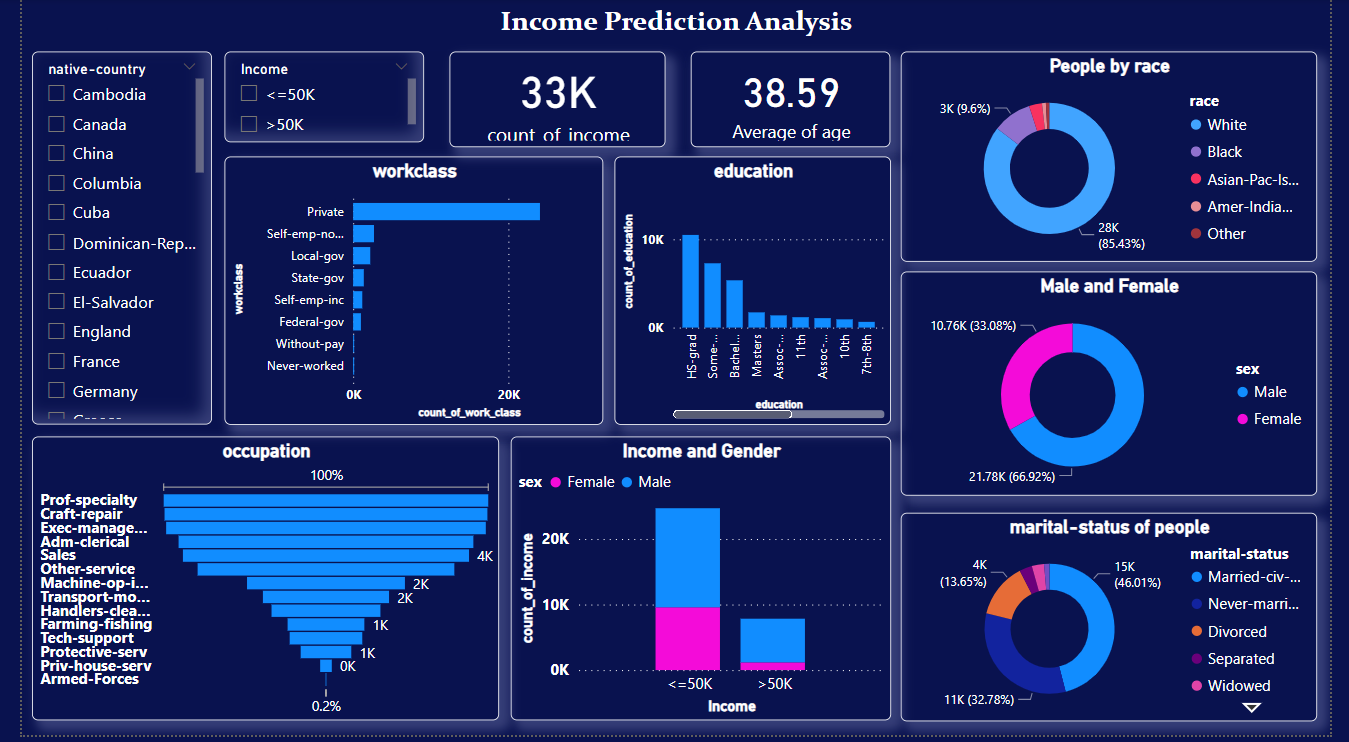

What the dashboard file says about the page in this screenshot:
{"tool":"powerbi","page":{"name":"Page 1","canvas":[1280,720],"ordinal":0},"visuals":[{"type":"textbox","box":[0,0,1279.9,50.1],"z":0},{"type":"donutChart","title":" People by race","fields":{"Category":["final_income_prediction.race"],"Y":["final_income_prediction.count_of_race"]},"box":[859,50.8,407.5,205.8],"z":1000},{"type":"donutChart","title":"Male and Female","fields":{"Y":["CountNonNull(final_income_prediction.sex)"],"Category":["final_income_prediction.sex"]},"box":[859.4,266.5,407.1,218.8],"z":2000},{"type":"donutChart","title":" marital-status of people","fields":{"Y":["final_income_prediction.count_marital_status"],"Category":["final_income_prediction.marital-status"]},"box":[859.4,502.4,407.1,204],"z":3000},{"type":"slicer","fields":{"Values":["final_income_prediction.native-country"]},"box":[9.6,50.8,175.6,365],"z":4000},{"type":"columnChart","title":"Income and Gender","fields":{"Category":["final_income_prediction.Income"],"Y":["final_income_prediction.count_of_income"],"Series":["final_income_prediction.sex"]},"box":[478,427.8,372,277.5],"z":5000},{"type":"slicer","fields":{"Values":["final_income_prediction.Income"]},"box":[197.6,50.8,194.9,89.2],"z":6000},{"type":"funnel","title":"occupation","fields":{"Y":["final_income_prediction.count_of_occupation"],"Category":["final_income_prediction.occupation"]},"box":[9.8,427.8,457.2,277.5],"z":7000},{"type":"barChart","title":" workclass","fields":{"Y":["final_income_prediction.count_of_work_class"],"Category":["final_income_prediction.workclass"]},"box":[197.6,153.7,370.5,262.1],"z":8000},{"type":"card","fields":{"Values":["Avg(final_income_prediction.age)"]},"box":[654.5,50.8,194.9,93.3],"z":9000},{"type":"card","fields":{"Values":["final_income_prediction.count_of_income"]},"box":[418.5,50.8,211.3,93.3],"z":10000},{"type":"columnChart","title":"education","fields":{"Category":["final_income_prediction.education"],"Y":["final_income_prediction.count_of_education"]},"box":[579.1,153.7,270.3,262.1],"z":10001}]}

Visuals, with their boxes in screenshot pixels (x1, y1, x2, y2), scaled from the page's 1280x720 canvas onto the 1349x742 screenshot:
textbox: l=0, t=0, r=1348, b=52
" People by race" donutChart: l=905, t=52, r=1335, b=264
"Male and Female" donutChart: l=906, t=275, r=1335, b=500
" marital-status of people" donutChart: l=906, t=518, r=1335, b=728
slicer - final_income_prediction.native-country: l=10, t=52, r=195, b=429
"Income and Gender" columnChart: l=504, t=441, r=896, b=727
slicer - final_income_prediction.Income: l=208, t=52, r=414, b=144
"occupation" funnel: l=10, t=441, r=492, b=727
" workclass" barChart: l=208, t=158, r=599, b=429
card - Avg(final_income_prediction.age): l=690, t=52, r=895, b=149
card - final_income_prediction.count_of_income: l=441, t=52, r=664, b=149
"education" columnChart: l=610, t=158, r=895, b=429
